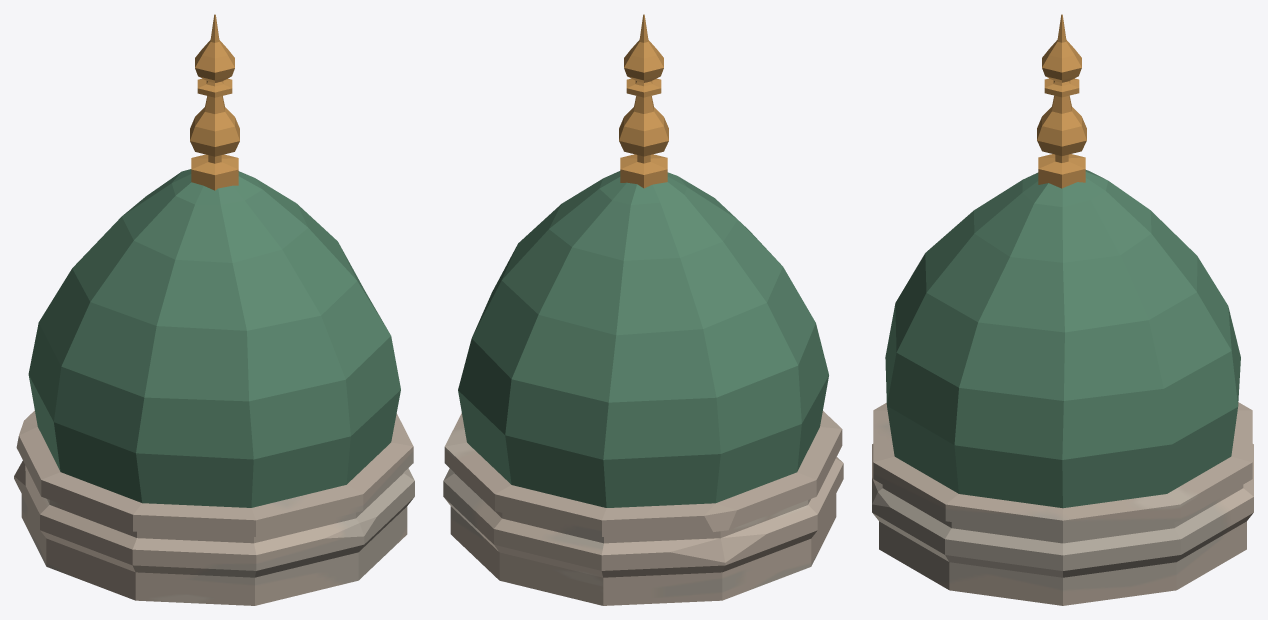
Rendered from SM_Bld_Roof_Cap_03.glb.
3 views of the same model, side by side, from view 1: azimuth 30°, elevation 25°; view 2: azimuth 150°, elevation 25°; view 3: azimuth 270°, elevation 25° (orthographic).
Visible parts, largest first — view 1: SM_Bld_Roof_Cap_03; view 2: SM_Bld_Roof_Cap_03; view 3: SM_Bld_Roof_Cap_03.
Boxes of the visible parts, box(x1,y1,x2,y2) form: SM_Bld_Roof_Cap_03: box(14, 14, 414, 605); SM_Bld_Roof_Cap_03: box(443, 14, 843, 605); SM_Bld_Roof_Cap_03: box(872, 14, 1253, 605).
Size of the model in its own units: 2.54 by 3.57 by 2.42.
Materials: 2 (2 with a texture image).
